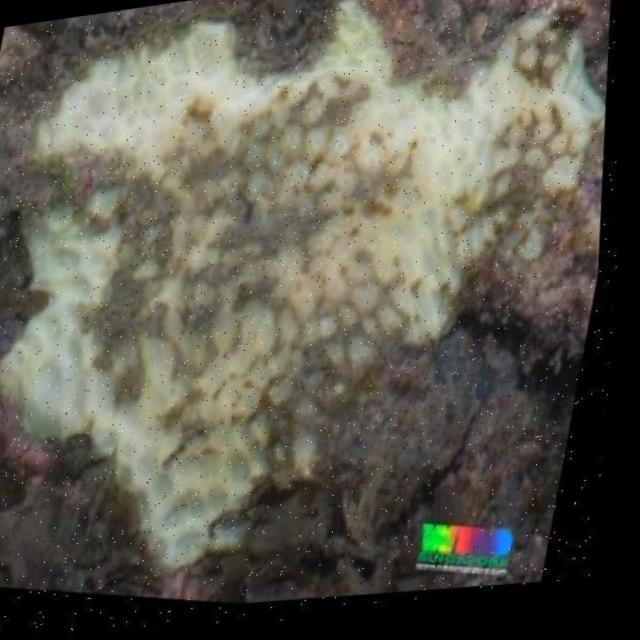Bleached Coral: (0, 0, 578, 563)
